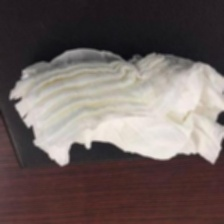tissue: (3, 43, 224, 172)
